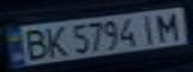4: (118, 16, 142, 47)
5: (69, 20, 90, 54)
7: (84, 19, 106, 52)
9: (103, 18, 124, 51)
B: (18, 26, 51, 61)
I: (136, 12, 160, 44)
K: (42, 24, 69, 57)
M: (151, 10, 184, 42)
